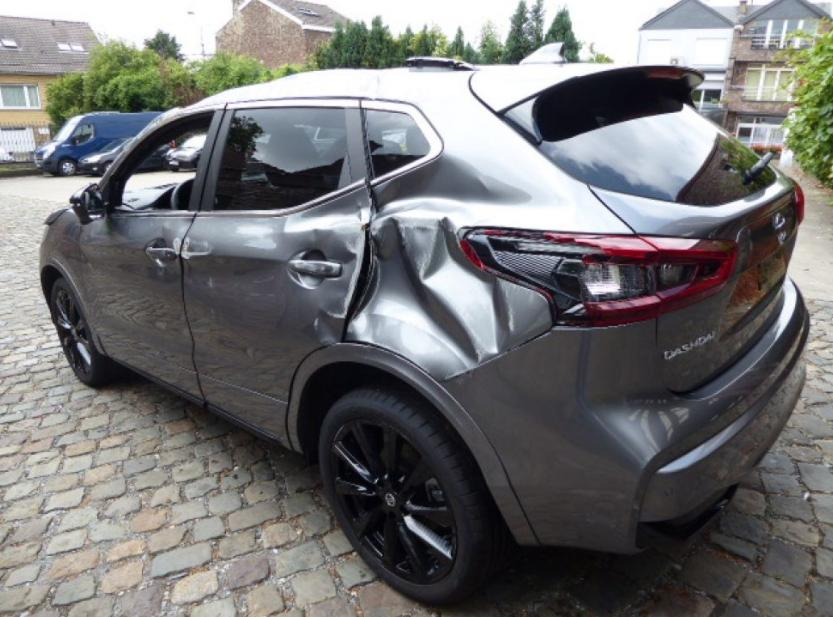Back-bumper: (440, 276, 807, 551)
Back-door: (181, 107, 369, 440)
Back-wheel: (321, 385, 511, 601)
Back-window: (214, 112, 350, 209), (362, 110, 429, 178)
Back-windshield: (533, 76, 775, 208)
Fender: (39, 210, 105, 352)
Front-door: (80, 109, 224, 401)
Front-wheel: (50, 280, 105, 383)
Mirror: (70, 183, 103, 223)
Quarter-panel: (287, 149, 635, 544)
Rocker-panel: (111, 357, 291, 451)
Roof: (176, 68, 480, 109)
Tail-light: (464, 229, 665, 328), (639, 234, 738, 314)
Trunk: (583, 168, 809, 391), (470, 64, 700, 143)
